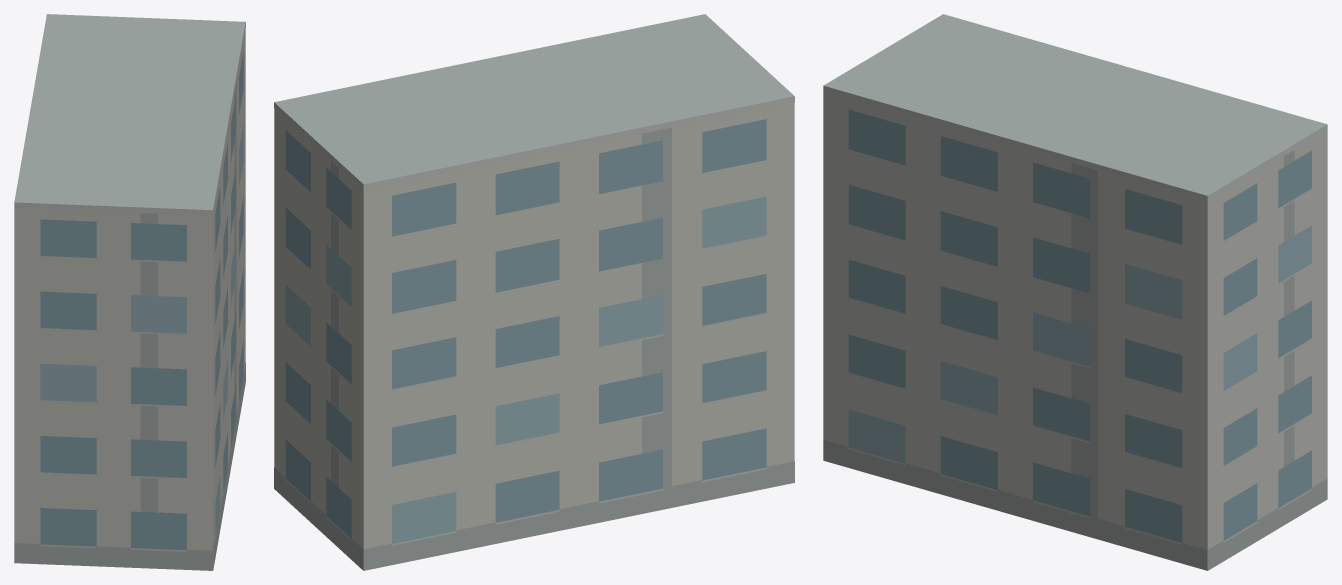
Rendered from survey-upis-32989865.glb.
The picture shows the model from 3 angles, left to right: view 1: azimuth 30°, elevation 25°; view 2: azimuth 150°, elevation 25°; view 3: azimuth 270°, elevation 25°; orthographic projection. The views are drawn at different scales.
Parts seen in each view (by area): view 1: survey-upis-32989865.tmp; view 2: survey-upis-32989865.tmp; view 3: survey-upis-32989865.tmp.
Boxes of the visible parts, x1,y1,x2,y2 form: survey-upis-32989865.tmp: (14,14,245,570); survey-upis-32989865.tmp: (274,14,794,570); survey-upis-32989865.tmp: (823,14,1327,570).
Size of the model in its own units: 16.03 by 15.4 by 18.78.
